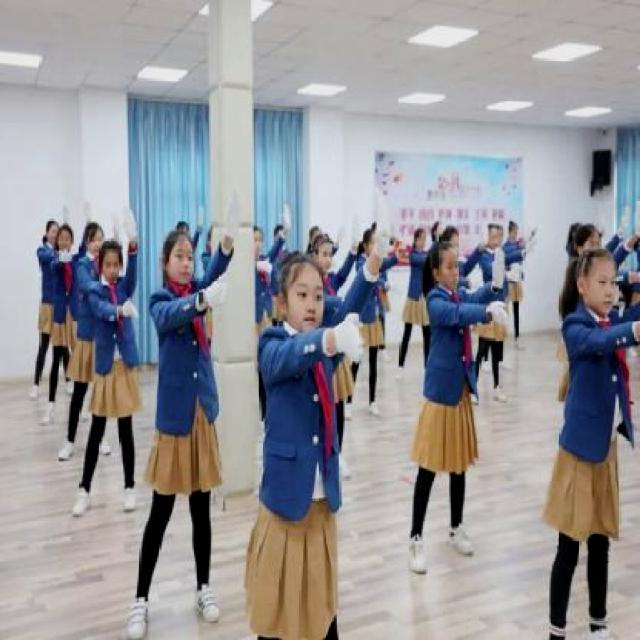face_nomask: (286, 280, 326, 329), (588, 268, 622, 309), (165, 242, 197, 283), (440, 255, 462, 291), (102, 255, 123, 277)
hand_glove: (337, 306, 371, 368), (374, 198, 395, 254), (222, 188, 246, 234), (208, 269, 232, 306), (123, 203, 140, 242), (122, 295, 143, 323), (280, 198, 294, 237), (491, 246, 506, 282), (351, 214, 363, 249), (81, 192, 97, 218), (492, 298, 508, 324), (112, 208, 125, 235), (197, 202, 209, 229), (335, 219, 348, 243), (261, 252, 274, 276), (622, 200, 632, 228), (524, 235, 538, 251), (61, 246, 74, 263), (63, 197, 72, 220), (511, 266, 523, 282)
head_nohelmet: (283, 252, 335, 278), (575, 245, 614, 268), (571, 222, 603, 243), (100, 235, 126, 259), (82, 220, 109, 240), (434, 224, 460, 242), (312, 234, 339, 251), (432, 245, 460, 260), (166, 229, 186, 249), (58, 222, 78, 238), (46, 220, 60, 234)
person: (250, 191, 398, 640), (126, 186, 248, 640), (528, 240, 628, 640), (397, 240, 514, 574), (73, 198, 158, 530), (46, 225, 72, 423)
shoes: (120, 592, 158, 640), (399, 532, 432, 578), (192, 583, 228, 625), (111, 475, 143, 517), (445, 520, 477, 558), (68, 484, 97, 522), (52, 437, 82, 465), (486, 384, 514, 408), (37, 404, 60, 433), (366, 396, 385, 419)
